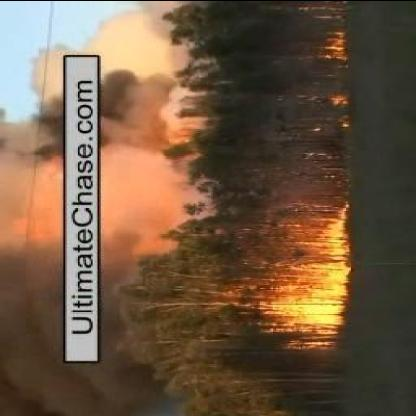-: (102, 57, 168, 243), (3, 108, 60, 316)
foggia-v2-map80-epoch100 - v1 4323: (273, 232, 351, 334)
